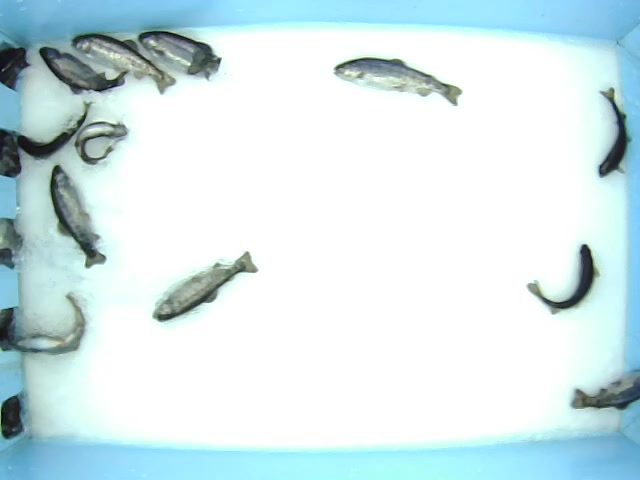fish: (151, 250, 260, 323), (70, 32, 179, 97), (48, 163, 113, 269), (335, 56, 462, 107), (526, 242, 602, 317), (11, 291, 88, 356), (16, 99, 96, 160), (37, 45, 131, 96), (137, 30, 223, 82), (598, 87, 634, 178), (73, 120, 130, 166)
